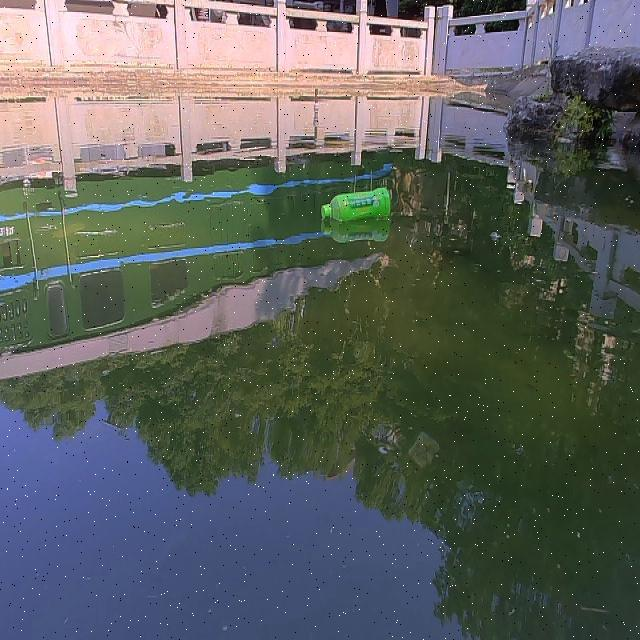bottle: (316, 181, 394, 223)
